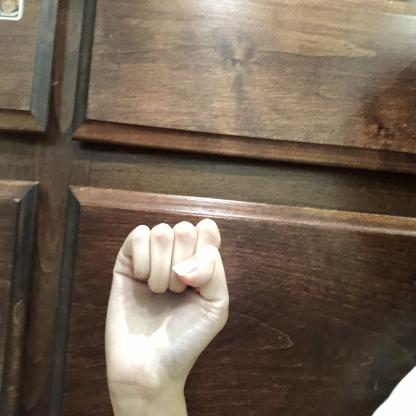fist: (103, 211, 231, 386)
